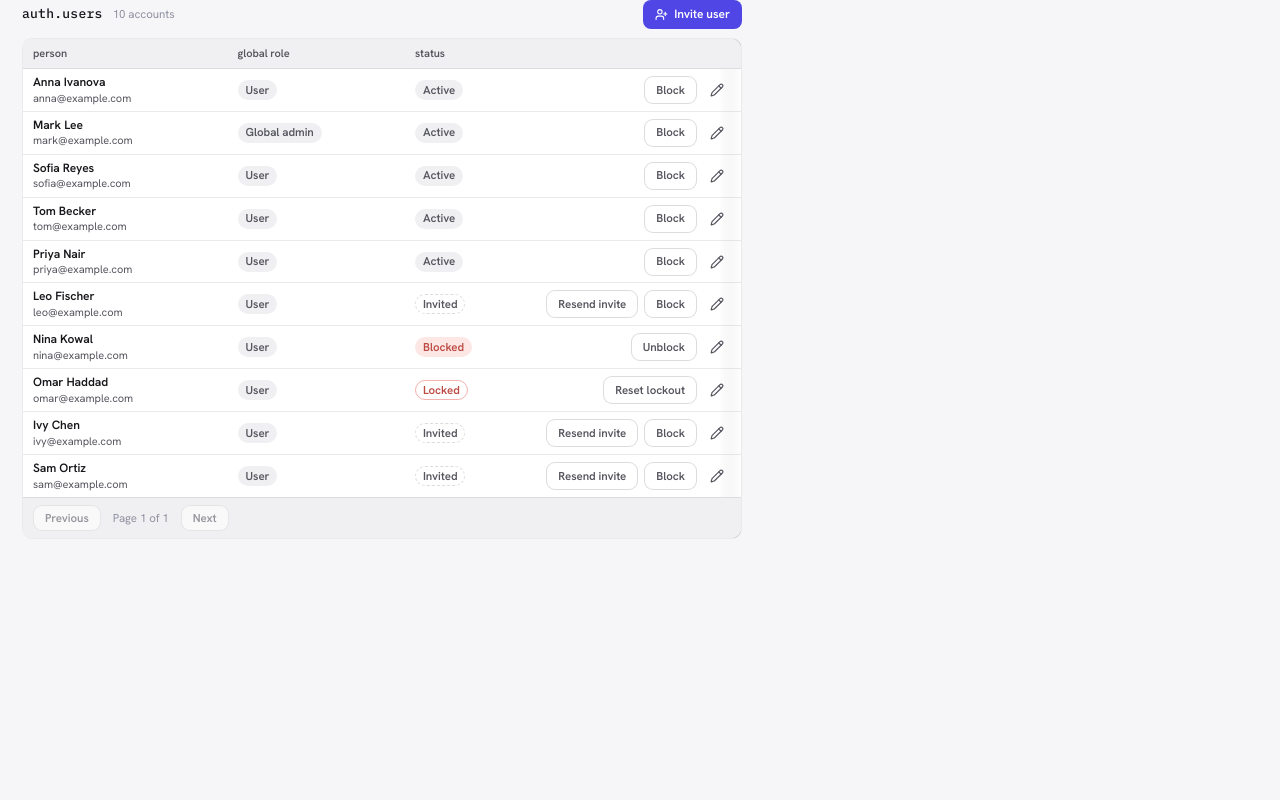
Scenario: the admin Users section › takes the status the server named, marks the row and says so in words
This screenshot has width=1280, height=800.
Click the button with aria-label "Unblock Nina Kowal": (664, 347) [631, 333, 697, 361]
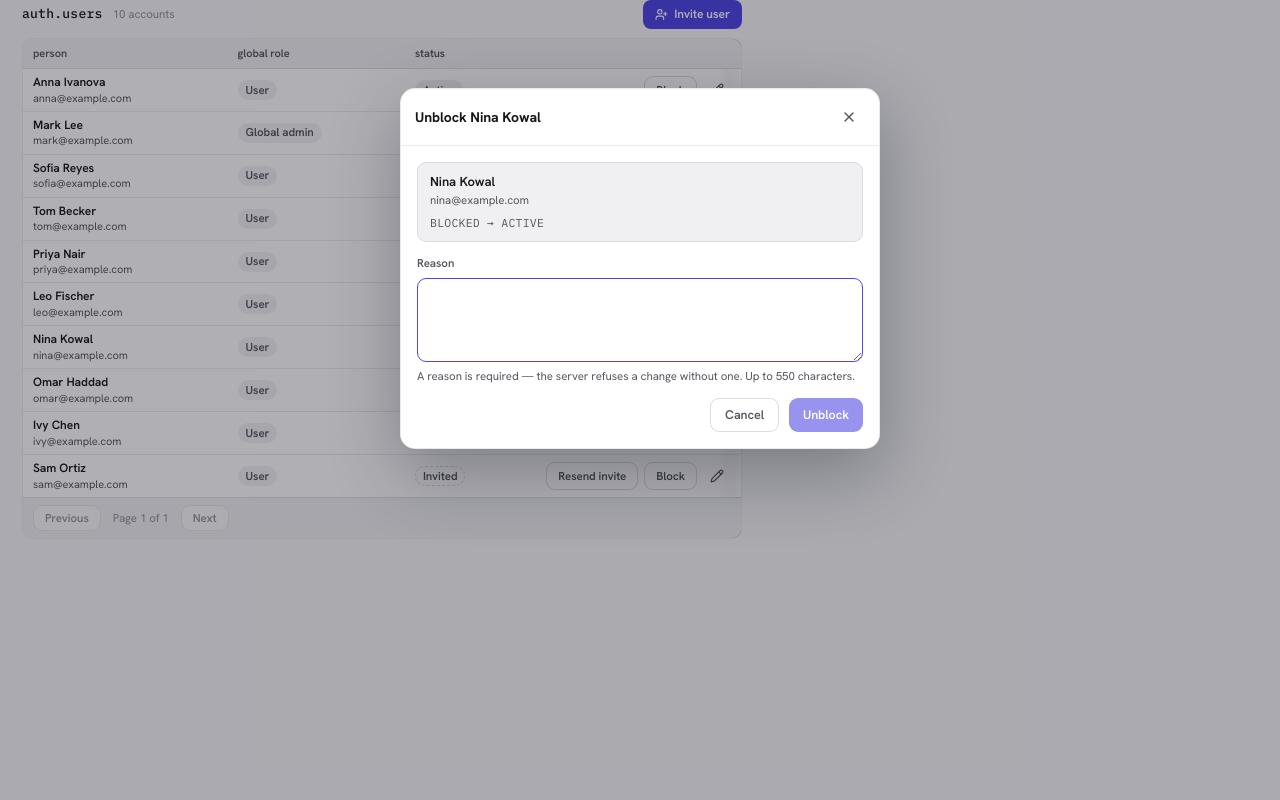
In the text box labelled "Reason": (640, 320) [417, 278, 863, 362], type "Back from leave"
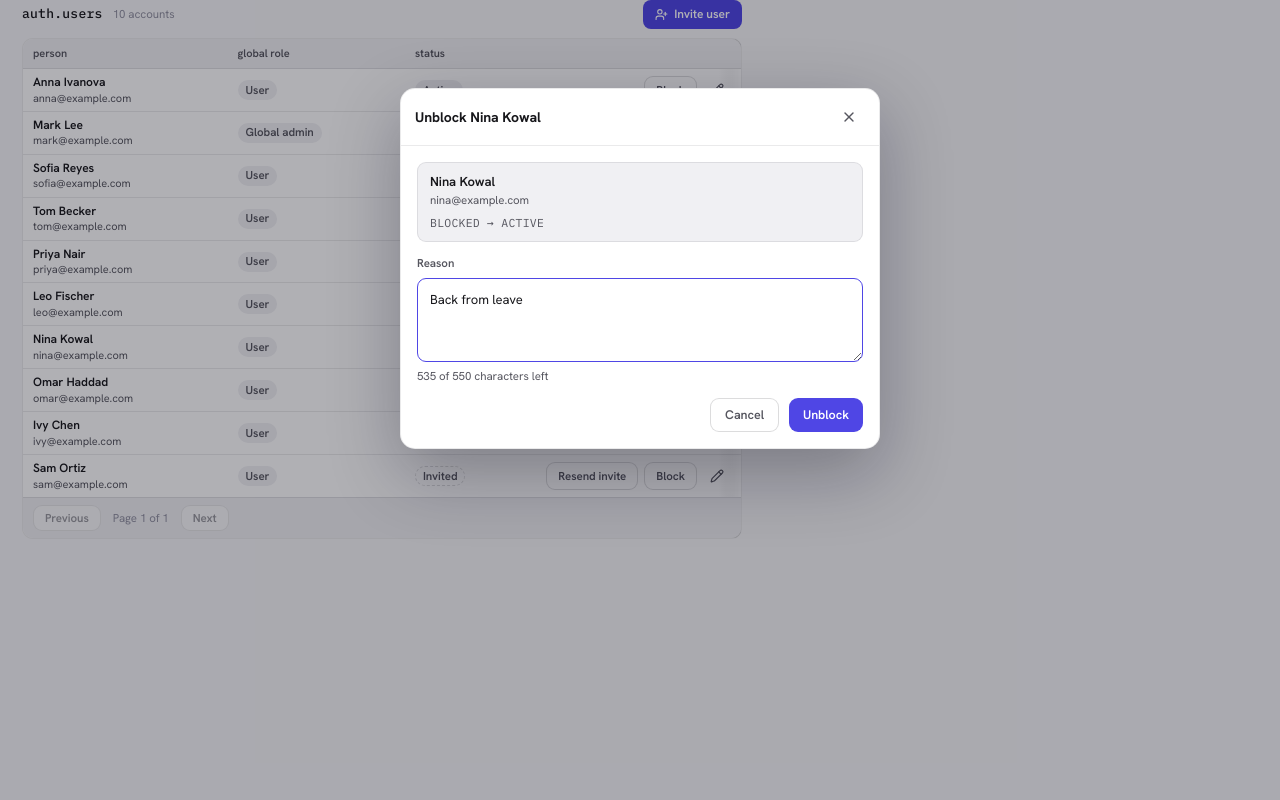
Click the button "Unblock": (826, 415) [789, 398, 863, 432]
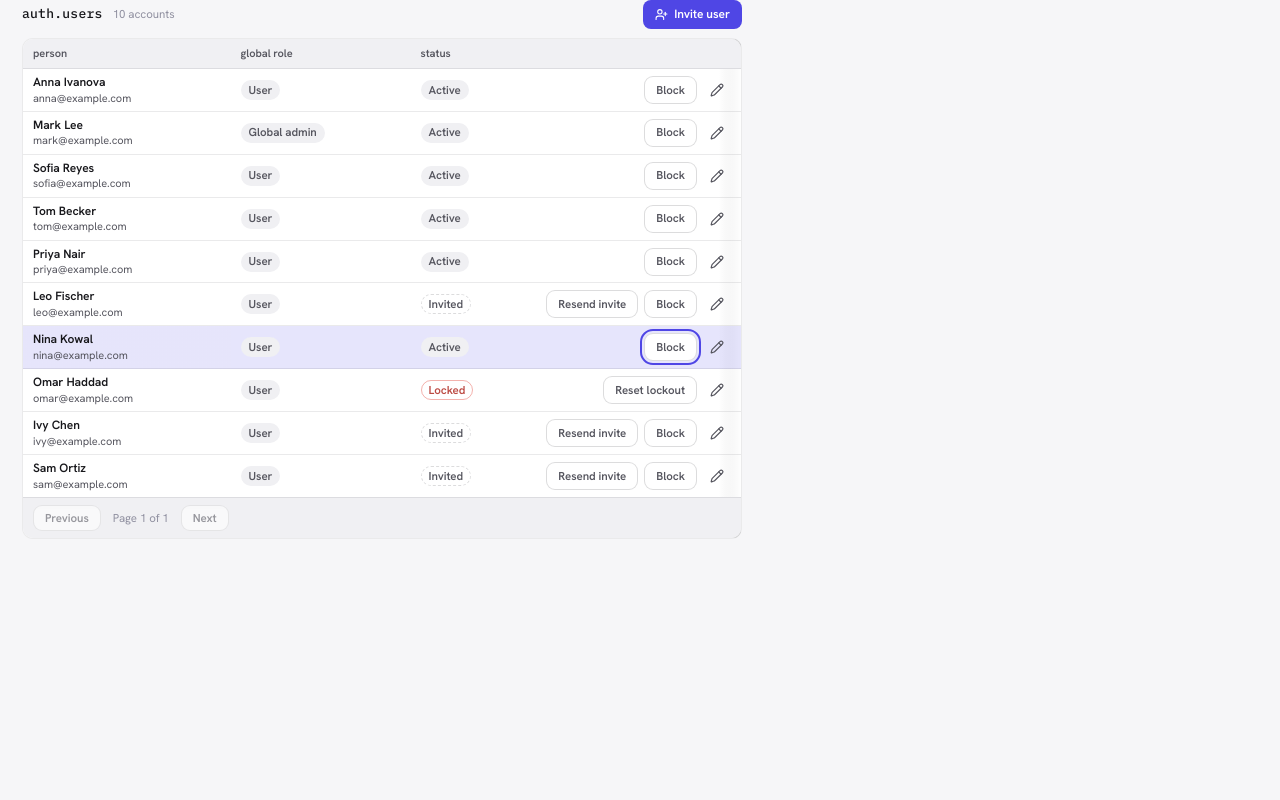
Expected: the button with aria-label "Block Nina Kowal" is shown, [644, 333, 697, 361]
Result: the dialog is gone
Result: the text "Active" in the row of "Nina Kowal" is shown at [429, 339, 461, 354]
